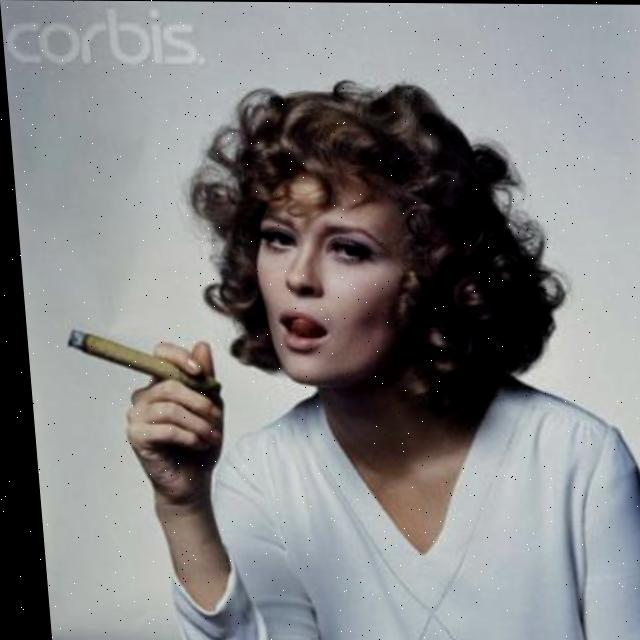cigarette: (60, 328, 210, 395)
